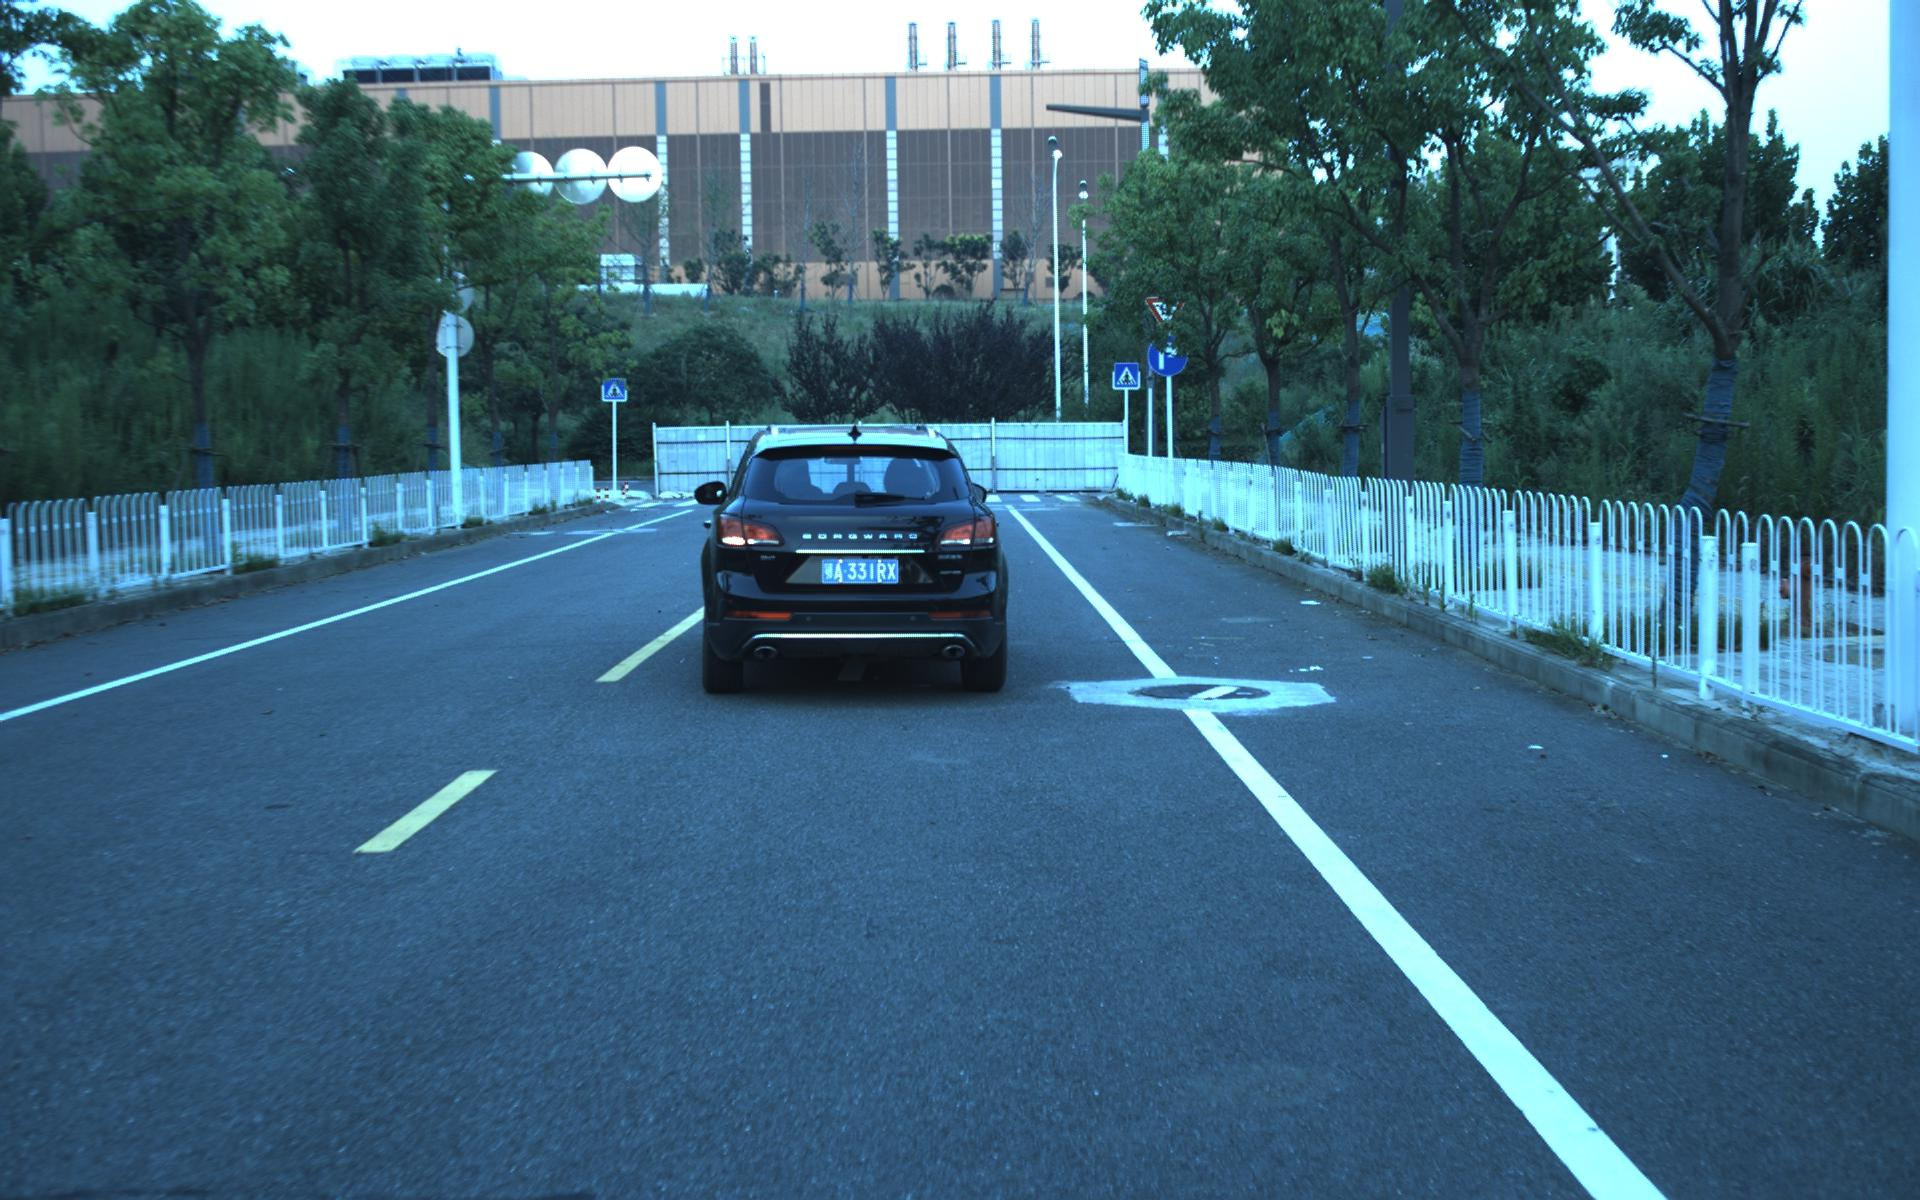Car: (697, 415, 1012, 698)
